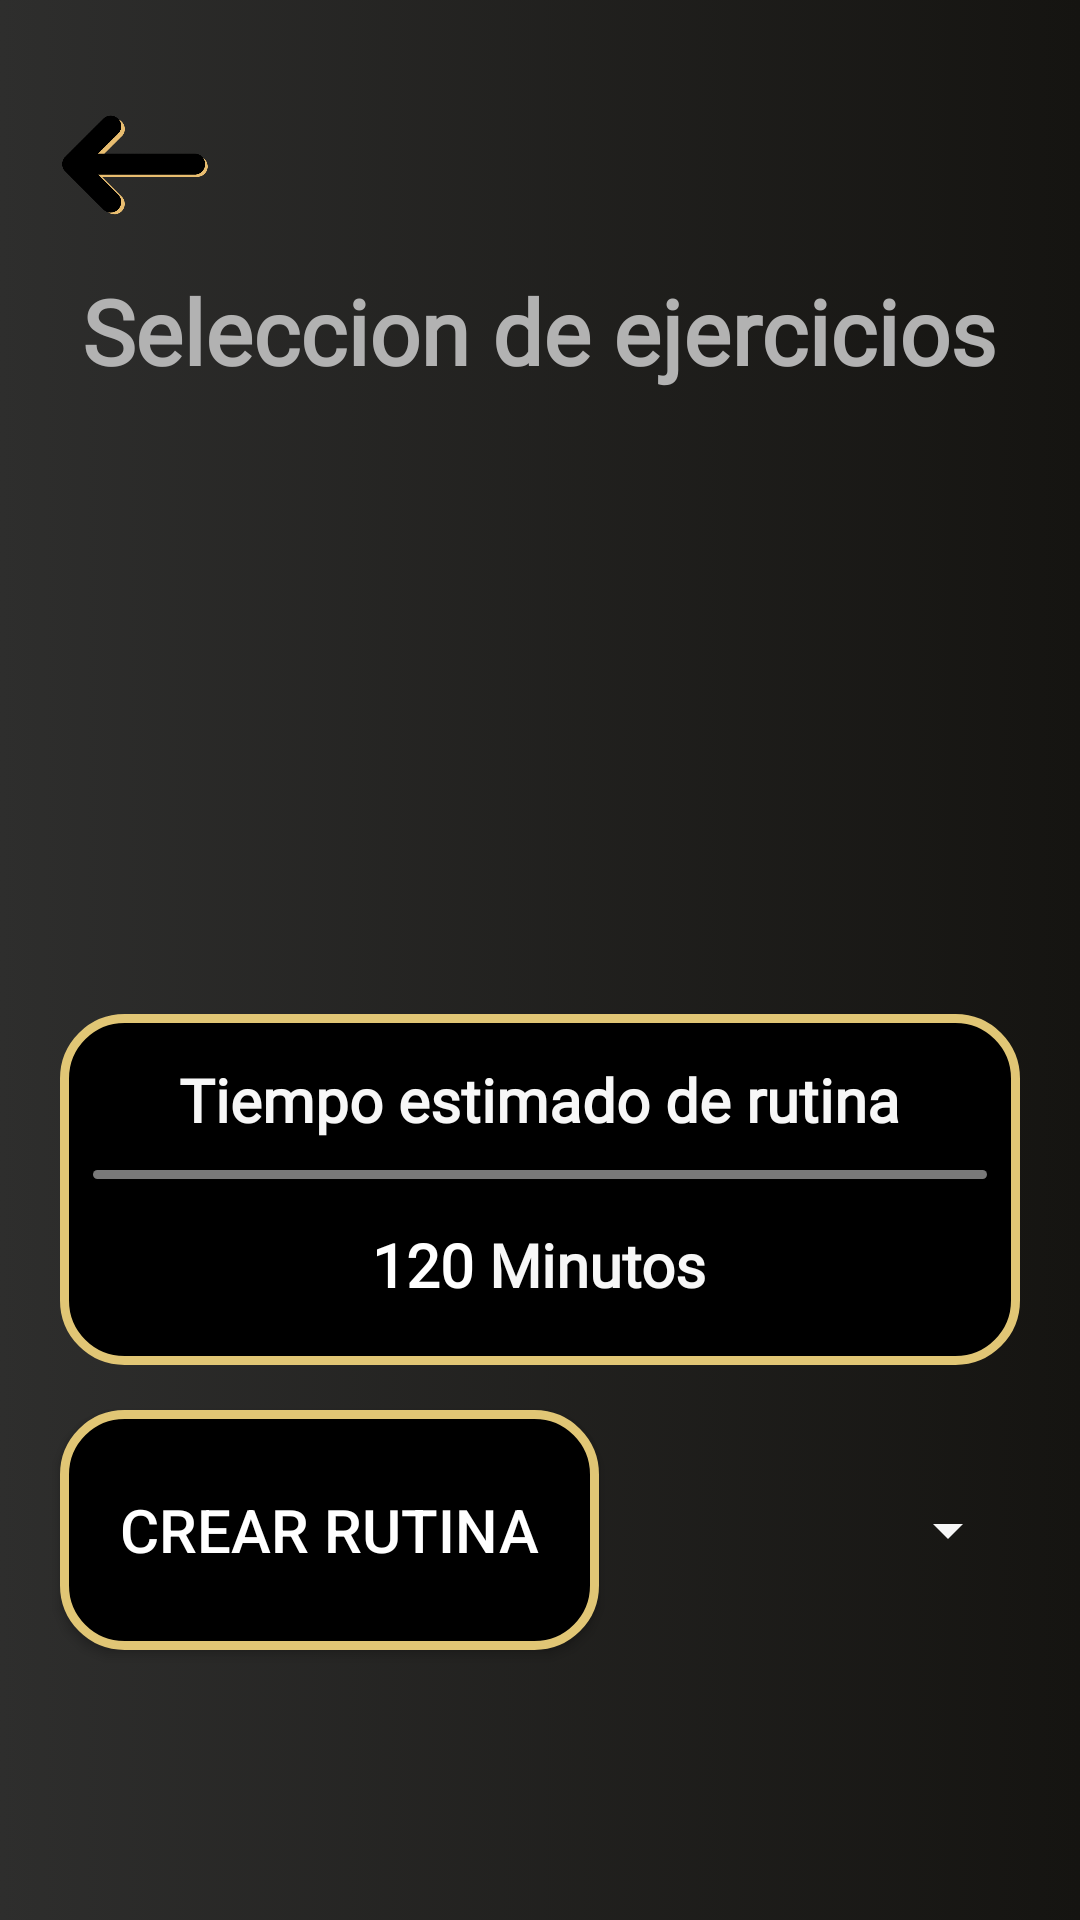

Screen size 1080 x 1920. Icon name, then its box in pixels as [x1, y1, x2, y2]:
flechanegrodorado: [62, 116, 208, 214]
